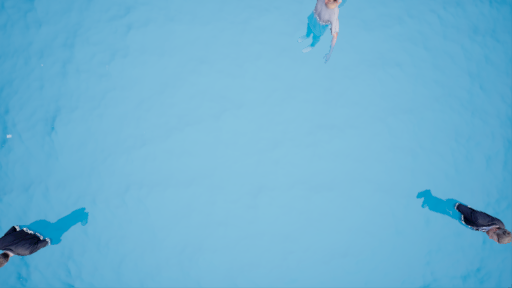person: (1, 200, 97, 271), (413, 185, 512, 247), (301, 1, 344, 60)
